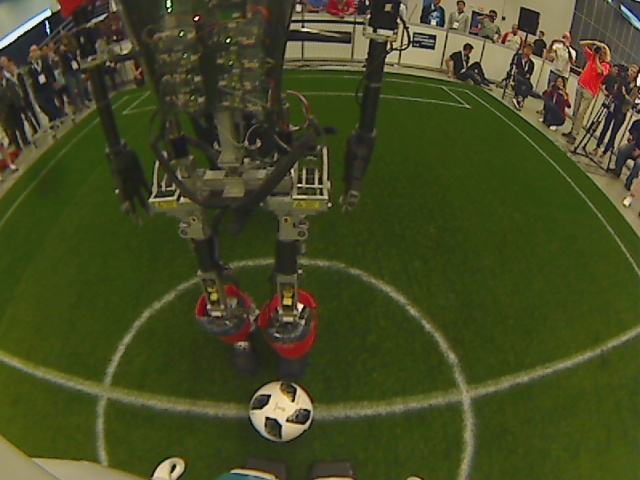ball: (246, 378, 320, 447)
